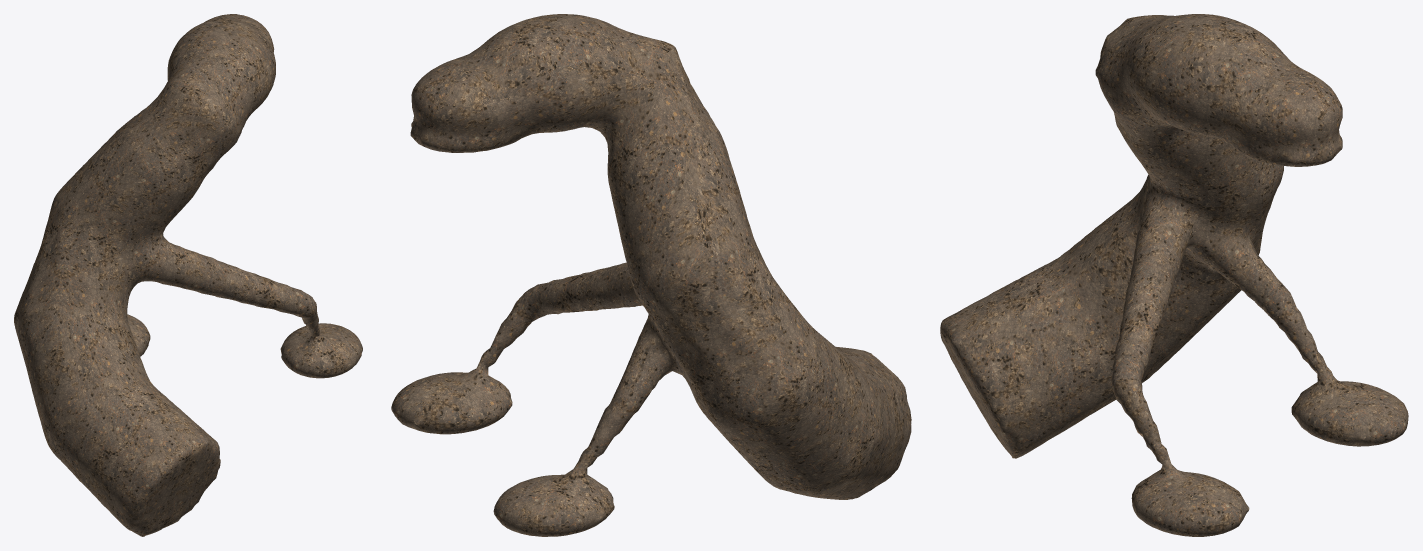
Rendered from Sculpt_DBA_Dragon.fbx.
3 renders of one model, left to right at view 1: azimuth 30°, elevation 25°; view 2: azimuth 150°, elevation 25°; view 3: azimuth 270°, elevation 25°, orthographic. The views are drawn at different scales.
Visible parts, largest first — view 1: Sculpt_DBA_Dragon; view 2: Sculpt_DBA_Dragon; view 3: Sculpt_DBA_Dragon.
Boxes of the visible parts, box(x1,y1,x2,y2) form: Sculpt_DBA_Dragon: box(14, 14, 362, 536); Sculpt_DBA_Dragon: box(391, 14, 911, 536); Sculpt_DBA_Dragon: box(940, 14, 1408, 536).
Size of the model in its own units: 696 by 651 by 787.
